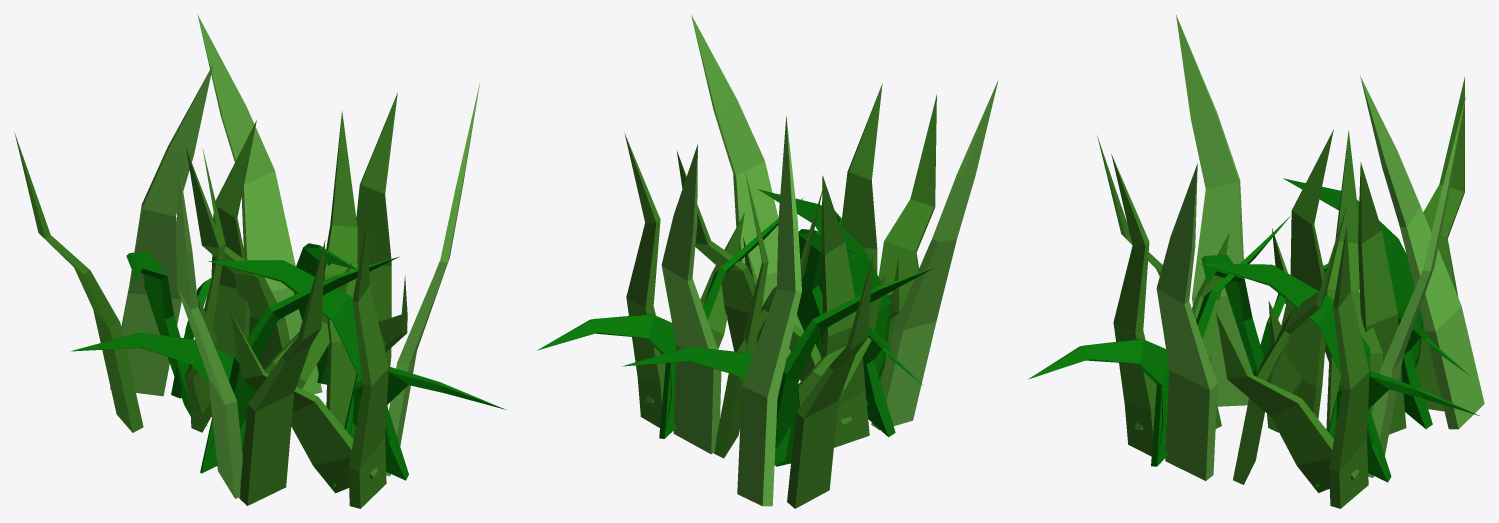
File: cimen1.fbx
3 views of the same model, side by side, from view 1: azimuth 30°, elevation 25°; view 2: azimuth 150°, elevation 25°; view 3: azimuth 270°, elevation 25° (orthographic). The views are drawn at different scales.
Parts seen in each view (by area): view 1: Cube.019; view 2: Cube.019; view 3: Cube.019.
Boxes of the visible parts, box(x1,y1,x2,y2) form: Cube.019: box(14, 14, 506, 508); Cube.019: box(537, 14, 998, 508); Cube.019: box(1028, 15, 1484, 508).
Bounding box in the file's own units: 64.64 × 66 × 75.85.
